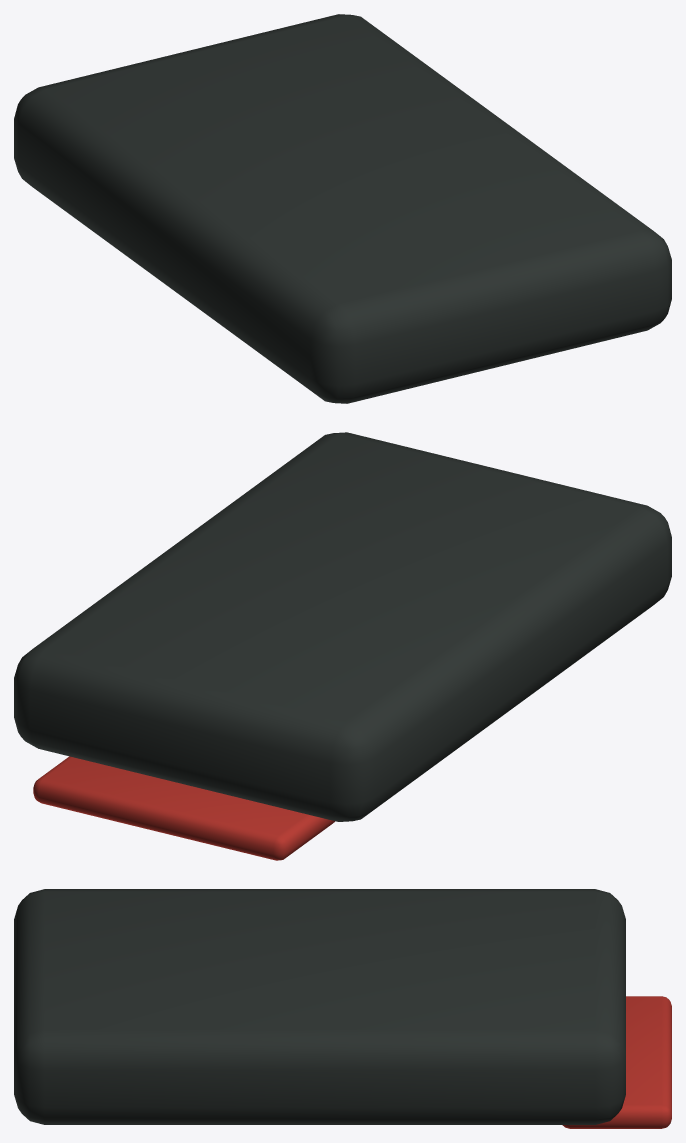
The model's file is access_control_v3.glb.
3 views of the same model, one above another, from view 1: azimuth 30°, elevation 25°; view 2: azimuth 150°, elevation 25°; view 3: azimuth 270°, elevation 25° (orthographic). The views are drawn at different scales.
Visible parts, largest first — view 1: AccessBack; view 2: AccessBack, EmergencyCover; view 3: AccessBack, EmergencyCover.
Part boxes in pixels (x1,y1,x2,y2): AccessBack: [14, 14, 671, 403]; AccessBack: [14, 432, 671, 821]; EmergencyCover: [33, 756, 334, 860]; AccessBack: [14, 889, 625, 1124]; EmergencyCover: [562, 996, 671, 1128].
Size of the model in its own units: 0.76 by 0.267 by 1.29.
